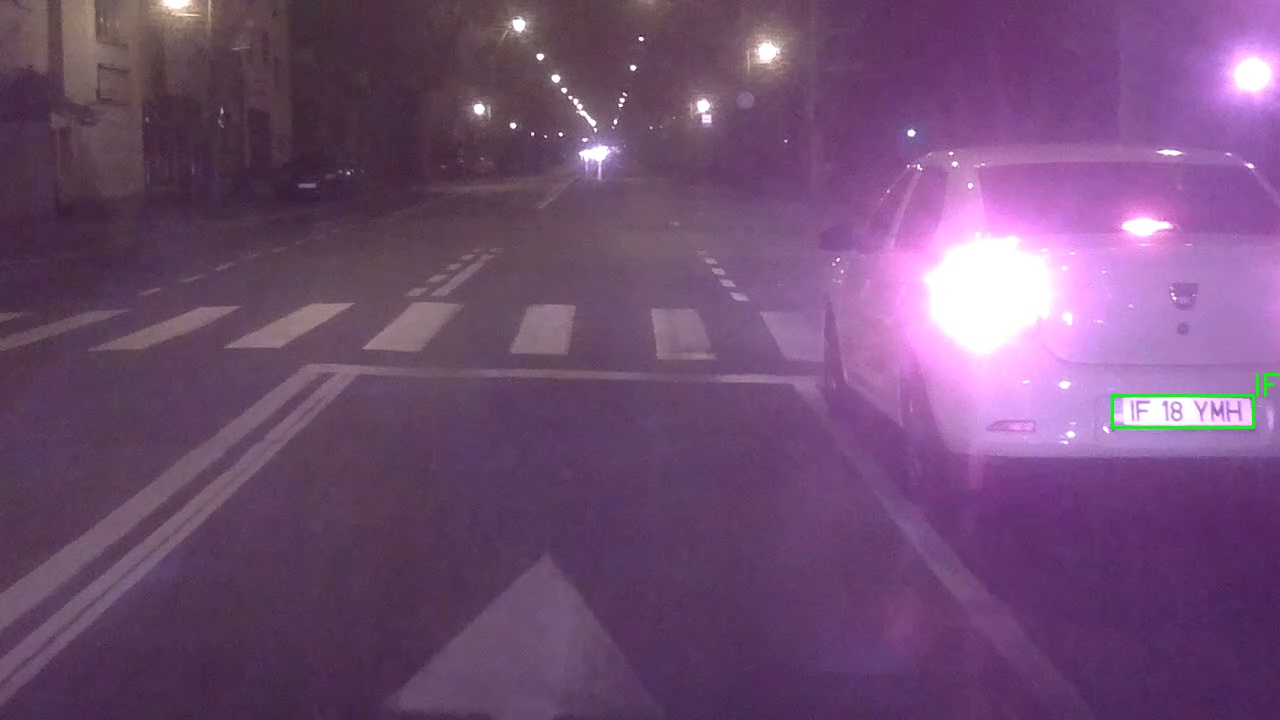license-plate: (1112, 395, 1254, 428)
